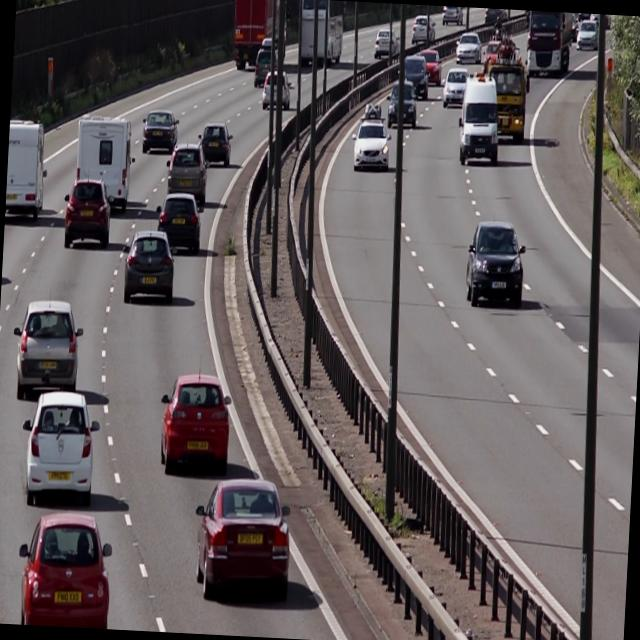Vehicle: (192, 476, 296, 610), (12, 512, 114, 630), (17, 386, 98, 510), (10, 298, 86, 398), (160, 372, 234, 474), (75, 111, 138, 208), (466, 214, 528, 307), (5, 114, 50, 221), (485, 43, 530, 142), (120, 230, 177, 306), (61, 178, 115, 253), (231, 0, 290, 68), (460, 73, 503, 162), (296, 0, 347, 71), (163, 141, 210, 212), (528, 11, 576, 78), (152, 193, 206, 251), (350, 105, 393, 172), (197, 124, 237, 168), (388, 80, 421, 131), (141, 109, 180, 151), (401, 55, 430, 105), (252, 36, 278, 89), (263, 70, 293, 114), (453, 31, 483, 68), (371, 28, 402, 61), (446, 67, 470, 109), (422, 46, 444, 87), (576, 18, 600, 54)
